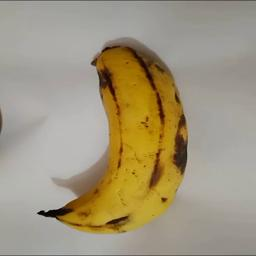Banana Semifresh: (34, 47, 192, 241)
